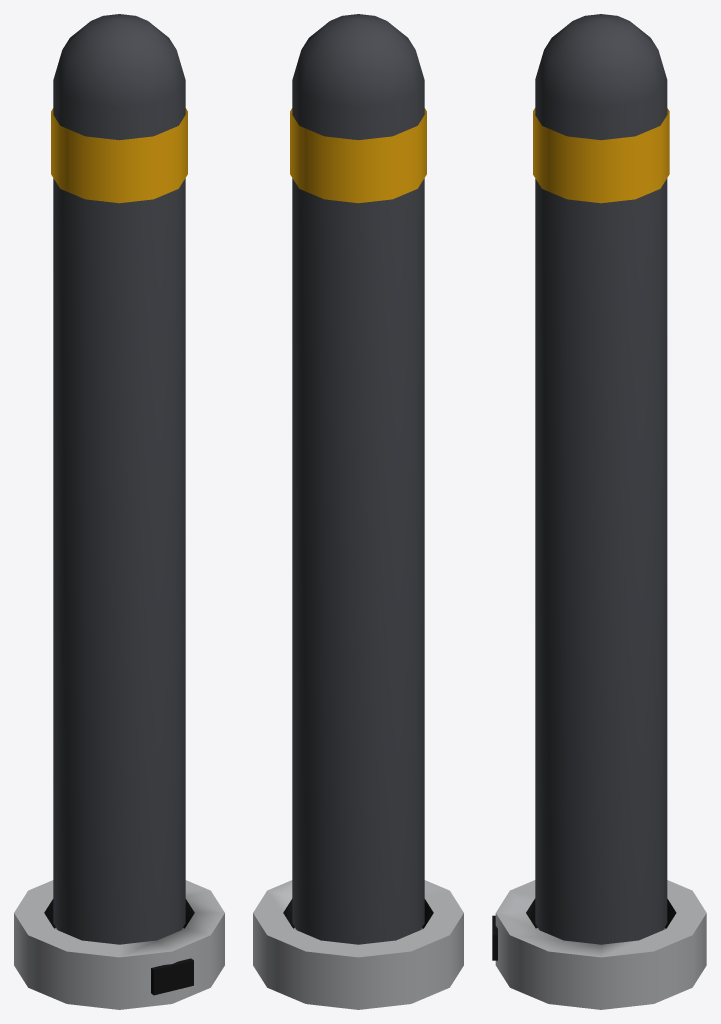
The model's file is gteki_street_bollard_removable_d114_h900.glb.
3 views of the same model, side by side, from view 1: azimuth 30°, elevation 25°; view 2: azimuth 150°, elevation 25°; view 3: azimuth 270°, elevation 25° (orthographic).
Visible parts, largest first — view 1: VIS_body; view 2: VIS_body; view 3: VIS_body.
Boxes of the visible parts, x1=… form: VIS_body: x1=14, y1=14, x2=224, y2=1009; VIS_body: x1=253, y1=14, x2=463, y2=1009; VIS_body: x1=492, y1=14, x2=706, y2=1009.
Size of what is drawn, in the model's own units: 0.182 by 0.9 by 0.185.
Materials: 1 (1 with a texture image).
